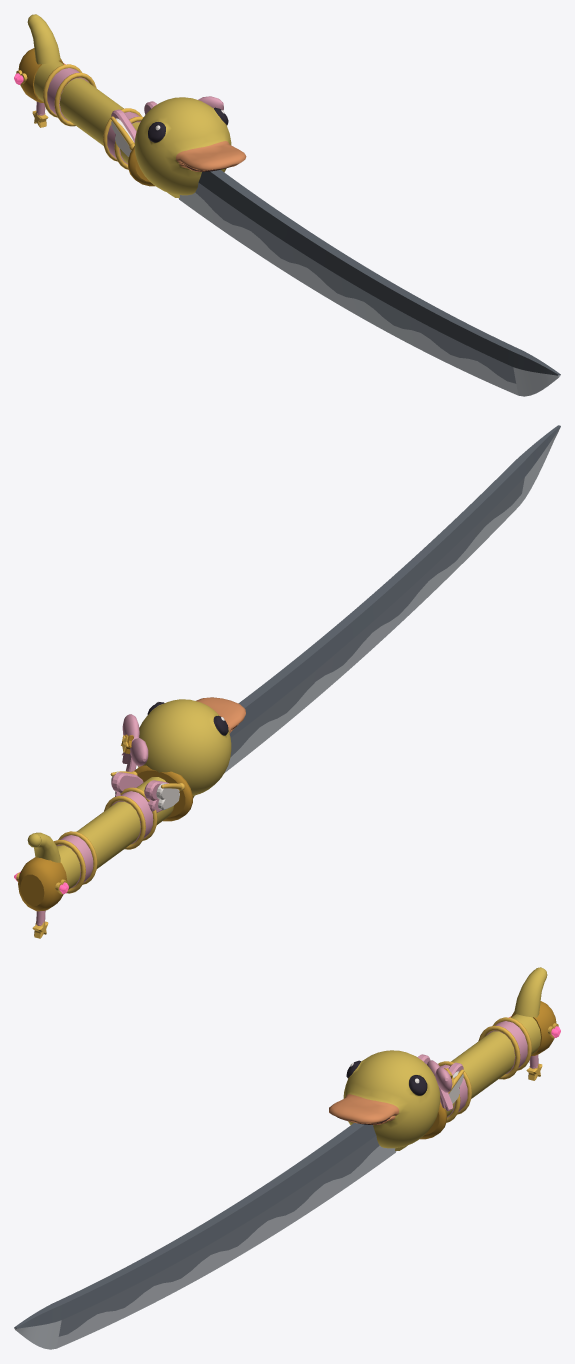
The model's file is w_katana@katana_ducky.glb.
3 views of the same model, one above another, from view 1: azimuth 30°, elevation 25°; view 2: azimuth 150°, elevation 25°; view 3: azimuth 330°, elevation 25° (orthographic).
Parts seen in each view (by area): view 1: kat_blade_wzB__spine__p5f666f, kat_blade_wzB__edge__pcdd2d8, kat_guard_wzA__duck__pd0b551, kat_blade_wzB__steel__p858c96, kat_tsuka_wzA__duck__pd0b551, kat_trims_wzN__gold__pe6b64c, kat_guard_wzN__bill__pd88c5c, kat_trims_wzN__gold2__pb8862b, kat_trims_wzA__duck__pd0b551, kat_tsuka_wzN__pink__pdc9db3; view 2: kat_blade_wzB__spine__p5f666f, kat_guard_wzA__duck__pd0b551, kat_blade_wzB__edge__pcdd2d8, kat_blade_wzB__steel__p858c96, kat_tsuka_wzA__duck__pd0b551, kat_trims_wzN__gold2__pb8862b, kat_trims_wzN__gold__pe6b64c, kat_tsuka_wzN__pink__pdc9db3, kat_guard_wzN__pink__pdc9db3, kat_tsuka_wzA__pink__pdc9db3, kat_guard_wzN__bill__pd88c5c, kat_trims_wzA__duck__pd0b551; view 3: kat_blade_wzB__spine__p5f666f, kat_blade_wzB__edge__pcdd2d8, kat_guard_wzA__duck__pd0b551, kat_blade_wzB__steel__p858c96, kat_tsuka_wzA__duck__pd0b551, kat_trims_wzN__gold__pe6b64c, kat_guard_wzN__bill__pd88c5c, kat_trims_wzN__gold2__pb8862b, kat_trims_wzA__duck__pd0b551, kat_tsuka_wzN__pink__pdc9db3, kat_guard_wzN__pink__pdc9db3.
Boxes of the visible parts, left/top/right/bottom form: kat_blade_wzB__spine__p5f666f: left=198, top=170, right=560, bottom=375; kat_blade_wzB__edge__pcdd2d8: left=178, top=192, right=560, bottom=396; kat_guard_wzA__duck__pd0b551: left=134, top=97, right=231, bottom=195; kat_blade_wzB__steel__p858c96: left=195, top=182, right=516, bottom=383; kat_tsuka_wzA__duck__pd0b551: left=34, top=61, right=179, bottom=197; kat_trims_wzN__gold__pe6b64c: left=16, top=63, right=143, bottom=169; kat_guard_wzN__bill__pd88c5c: left=176, top=141, right=246, bottom=171; kat_trims_wzN__gold2__pb8862b: left=18, top=48, right=154, bottom=186; kat_trims_wzA__duck__pd0b551: left=27, top=14, right=60, bottom=64; kat_tsuka_wzN__pink__pdc9db3: left=47, top=68, right=140, bottom=164; kat_blade_wzB__spine__p5f666f: left=229, top=425, right=560, bottom=737; kat_guard_wzA__duck__pd0b551: left=138, top=699, right=231, bottom=795; kat_blade_wzB__edge__pcdd2d8: left=224, top=428, right=559, bottom=773; kat_blade_wzB__steel__p858c96: left=230, top=477, right=524, bottom=757; kat_tsuka_wzA__duck__pd0b551: left=57, top=777, right=194, bottom=889; kat_trims_wzN__gold2__pb8862b: left=18, top=765, right=192, bottom=911; kat_trims_wzN__gold__pe6b64c: left=16, top=787, right=157, bottom=938; kat_tsuka_wzN__pink__pdc9db3: left=56, top=791, right=153, bottom=888; kat_guard_wzN__pink__pdc9db3: left=122, top=714, right=148, bottom=771; kat_tsuka_wzA__pink__pdc9db3: left=111, top=772, right=169, bottom=812; kat_guard_wzN__bill__pd88c5c: left=196, top=697, right=245, bottom=733; kat_trims_wzA__duck__pd0b551: left=27, top=832, right=60, bottom=862; kat_blade_wzB__spine__p5f666f: left=14, top=1123, right=376, bottom=1328; kat_blade_wzB__edge__pcdd2d8: left=14, top=1145, right=396, bottom=1349; kat_guard_wzA__duck__pd0b551: left=343, top=1050, right=440, bottom=1148; kat_blade_wzB__steel__p858c96: left=58, top=1135, right=379, bottom=1336; kat_tsuka_wzA__duck__pd0b551: left=395, top=1014, right=540, bottom=1150; kat_trims_wzN__gold__pe6b64c: left=438, top=1016, right=558, bottom=1122; kat_guard_wzN__bill__pd88c5c: left=329, top=1094, right=398, bottom=1125; kat_trims_wzN__gold2__pb8862b: left=420, top=1001, right=556, bottom=1139; kat_trims_wzA__duck__pd0b551: left=514, top=967, right=547, bottom=1017; kat_tsuka_wzN__pink__pdc9db3: left=440, top=1021, right=527, bottom=1117; kat_guard_wzN__pink__pdc9db3: left=427, top=1060, right=453, bottom=1110.
Bounding box in the file's own units: 0.0964 × 0.1324 × 0.9695.
